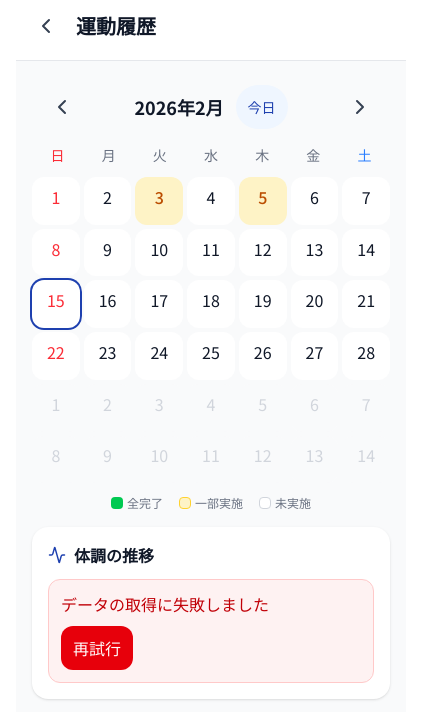
U-07 ExerciseHistory (Calendar) › date selection and detail panel › should show detail panel when a date is clicked
The image size is (423, 712).
Expected: the table named "カレンダー" is shown, [32,137,390,483]
What coordinates should you click on to do the following:
click the button named "2月5日"
I would click on:
 (263, 201)
Its box is [239,177,286,225].
(page scrolled)
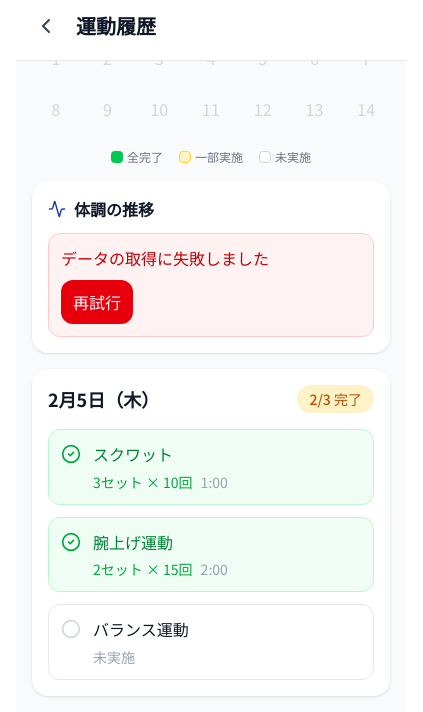
Result: the element with test id "day-detail-panel" is shown at [32,369,390,696]
